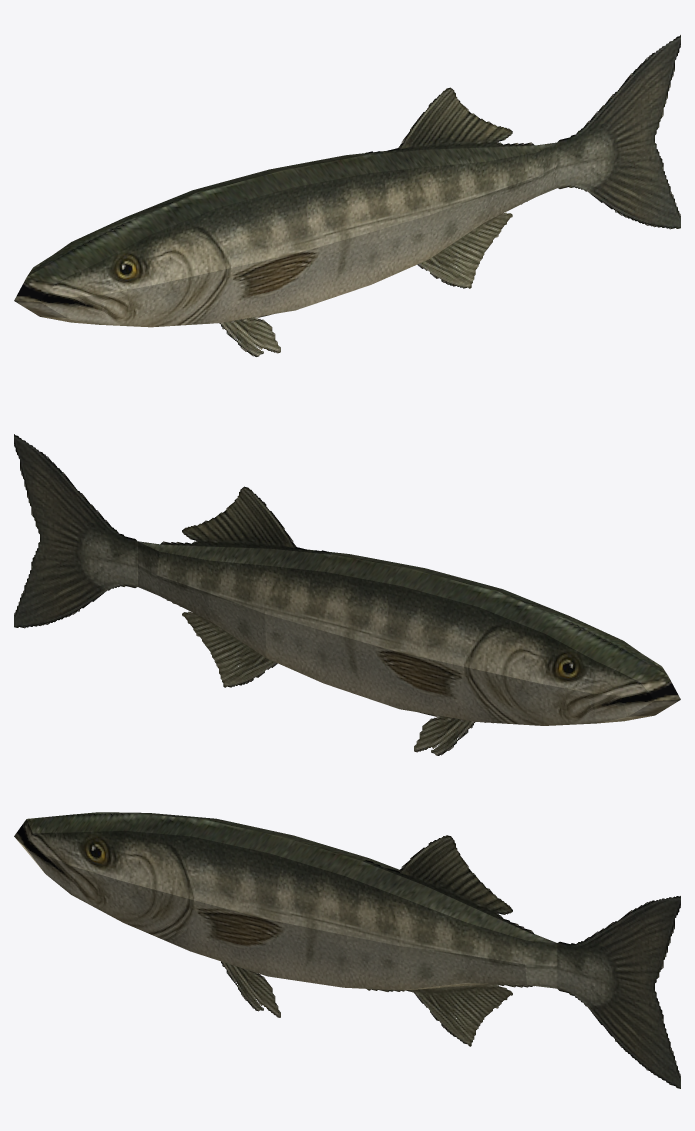
File: Barracuda.fbx
The picture shows the model from 3 angles, top to bottom: view 1: azimuth 30°, elevation 25°; view 2: azimuth 150°, elevation 25°; view 3: azimuth 330°, elevation 25°; orthographic projection.
Visible parts, largest first — view 1: Barracuda; view 2: Barracuda; view 3: Barracuda.
Boxes of the visible parts, x1,y1,x2,y2 form: Barracuda: [14, 35, 680, 356]; Barracuda: [14, 434, 680, 755]; Barracuda: [14, 812, 680, 1088].
Bounding box in the file's own units: 138 × 54.15 × 13.39.
